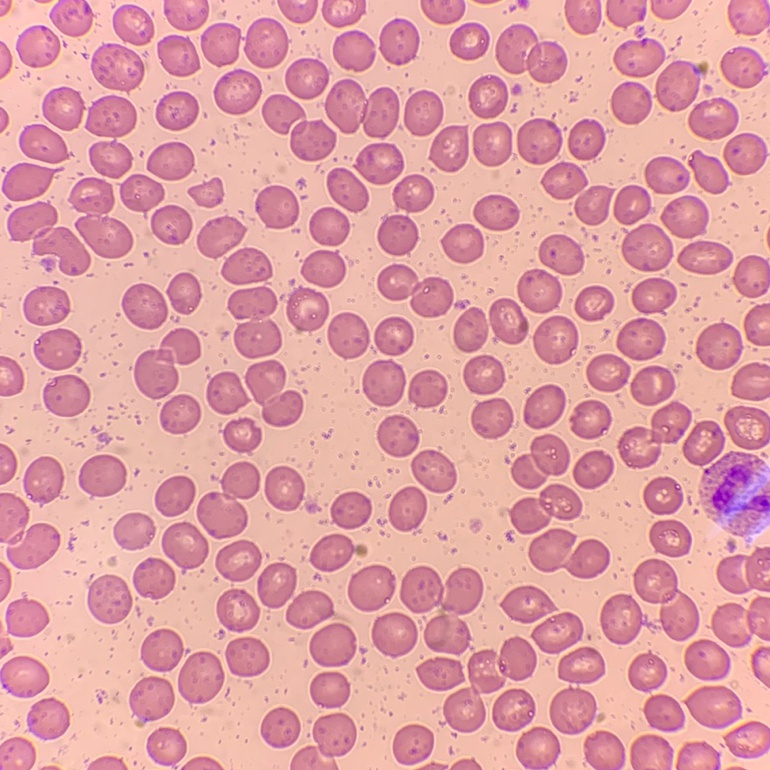RBC: (400, 566, 482, 653), (7, 202, 89, 275), (443, 650, 503, 732), (70, 178, 132, 257), (618, 402, 691, 467), (197, 462, 259, 538), (134, 328, 200, 398), (325, 79, 398, 137), (496, 24, 566, 82), (378, 264, 452, 317), (702, 452, 764, 514), (228, 287, 281, 358), (246, 360, 302, 426), (290, 713, 355, 769), (511, 484, 581, 533), (512, 435, 569, 488), (712, 597, 769, 647), (656, 61, 707, 110), (91, 44, 143, 90), (717, 547, 769, 593), (622, 224, 672, 271), (7, 523, 59, 568), (178, 652, 223, 703), (601, 594, 647, 643), (687, 687, 741, 728), (729, 482, 769, 535), (162, 522, 208, 568), (696, 323, 741, 369), (348, 565, 394, 610), (214, 69, 261, 113), (88, 575, 131, 623), (245, 18, 287, 67), (550, 689, 595, 734), (534, 316, 577, 363), (689, 98, 738, 139), (86, 96, 136, 136), (122, 284, 167, 328), (130, 677, 173, 723), (617, 318, 664, 360), (0, 656, 48, 697), (533, 613, 582, 653), (614, 38, 665, 76), (517, 119, 561, 163), (662, 196, 708, 238), (721, 47, 769, 87), (372, 613, 416, 656), (310, 623, 354, 666), (363, 360, 405, 405), (529, 529, 574, 571), (2, 163, 53, 200), (357, 143, 403, 184), (43, 375, 89, 416), (79, 455, 125, 496), (197, 217, 244, 257), (518, 269, 561, 312), (725, 407, 769, 449), (328, 313, 369, 358), (216, 540, 261, 581), (34, 329, 80, 369), (19, 124, 67, 162), (255, 186, 298, 228), (412, 450, 455, 492), (634, 559, 676, 602), (516, 727, 559, 769), (683, 421, 724, 465), (23, 457, 63, 502), (685, 640, 730, 680), (23, 286, 69, 325), (17, 25, 59, 67), (222, 248, 271, 284), (503, 586, 552, 622), (217, 589, 259, 631), (492, 689, 534, 731), (42, 87, 83, 130), (724, 133, 767, 174), (524, 385, 565, 428), (257, 563, 296, 608), (679, 241, 732, 274), (147, 142, 193, 180), (286, 591, 333, 628), (157, 35, 199, 76), (287, 288, 328, 330), (141, 629, 182, 671), (327, 168, 367, 211), (291, 121, 335, 160), (539, 235, 583, 274), (489, 299, 528, 343), (265, 466, 304, 510), (380, 19, 418, 64), (430, 126, 468, 171), (377, 415, 418, 456), (286, 58, 328, 98), (611, 82, 651, 124), (27, 699, 69, 739), (631, 366, 674, 405), (404, 91, 442, 135), (660, 596, 698, 640), (558, 647, 604, 683), (133, 558, 174, 598), (201, 23, 240, 65), (156, 91, 198, 130), (473, 122, 511, 165), (566, 540, 609, 578), (310, 534, 354, 571), (472, 398, 512, 438), (333, 31, 374, 70), (689, 152, 728, 193), (463, 355, 504, 394), (207, 372, 246, 413), (469, 75, 507, 117), (226, 638, 268, 676), (120, 174, 163, 211), (389, 487, 426, 530), (645, 157, 689, 193), (113, 5, 153, 44), (151, 205, 191, 244), (378, 215, 417, 255), (155, 476, 194, 516), (393, 725, 433, 764), (442, 224, 483, 262), (543, 162, 585, 199), (587, 354, 629, 391), (302, 250, 345, 286), (726, 722, 769, 758), (474, 195, 518, 230), (632, 278, 676, 313), (262, 95, 302, 133), (160, 395, 200, 433), (584, 731, 624, 769), (417, 657, 463, 690), (6, 599, 47, 636), (310, 207, 349, 245), (574, 450, 613, 488), (261, 708, 299, 747), (147, 727, 186, 765), (393, 175, 433, 212), (499, 638, 535, 679), (89, 142, 131, 177), (454, 308, 487, 352), (375, 317, 413, 355), (572, 400, 610, 438), (568, 120, 605, 159), (331, 492, 371, 528), (114, 513, 154, 549), (650, 520, 690, 556), (51, 0, 92, 35), (734, 256, 769, 297), (408, 370, 446, 407), (644, 477, 682, 514), (614, 185, 650, 224), (728, 0, 769, 34), (631, 735, 672, 769), (0, 493, 28, 542), (732, 363, 769, 400), (450, 23, 488, 59), (575, 186, 611, 224), (645, 695, 683, 731), (310, 672, 349, 707), (629, 654, 666, 690), (164, 0, 208, 30), (575, 286, 613, 320), (223, 418, 261, 452), (168, 273, 200, 313), (565, 0, 600, 33), (677, 742, 719, 769), (606, 0, 646, 26), (421, 0, 464, 23), (745, 304, 769, 345), (0, 356, 23, 395), (190, 179, 222, 206), (278, 0, 317, 22), (333, 0, 365, 26), (651, 0, 689, 19), (0, 445, 16, 483), (0, 738, 28, 758), (89, 757, 125, 769), (184, 757, 220, 769), (452, 759, 479, 769), (323, 0, 333, 17), (23, 752, 34, 766), (43, 258, 55, 269), (0, 638, 10, 651), (425, 764, 445, 769), (0, 565, 8, 577), (306, 501, 315, 511), (356, 545, 365, 555), (757, 648, 766, 657), (471, 520, 479, 529), (762, 674, 769, 684), (513, 86, 521, 94), (2, 579, 10, 587), (518, 0, 528, 6), (0, 67, 5, 76), (0, 121, 4, 129), (0, 590, 4, 598)
